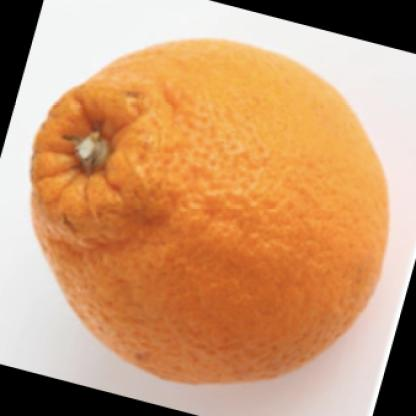fresh: (30, 42, 389, 387)
